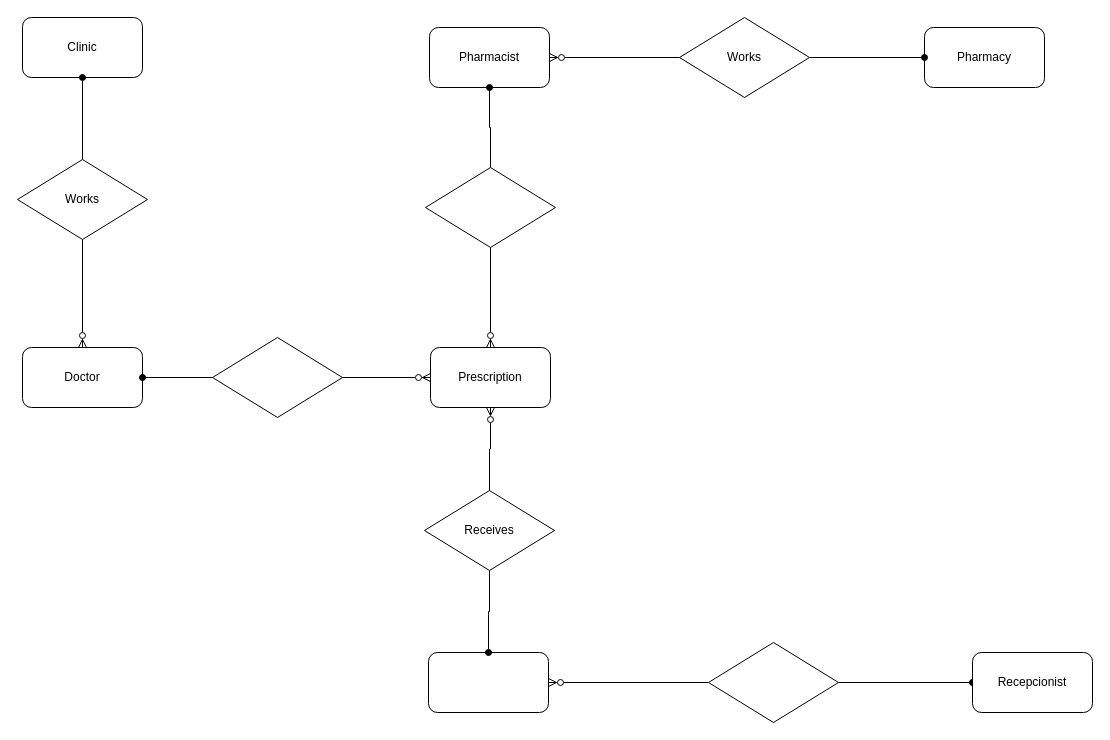
Image size: 1110x740. Some labels were removed from this diagram. The shapes that lost their labels are listed below. From the top down, each one's centre as x and y in pixels, then its label:
At (490,207): "Uses".
At (277,377): "Elaborates".
At (488,682): "Pacient".
At (773,682): "Registers".
